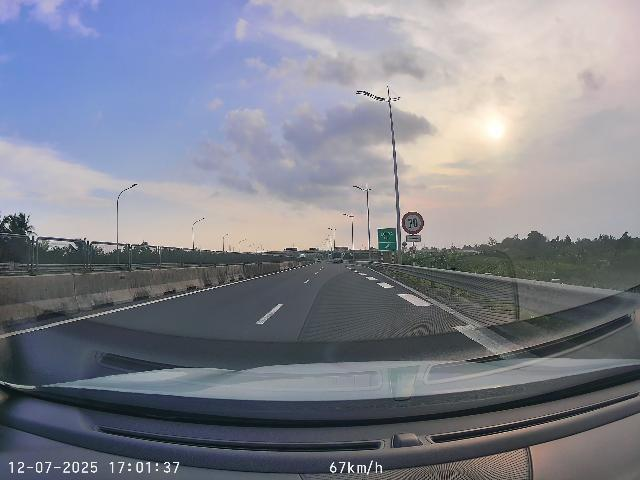127-toc-do-toi-da-70: (402, 211, 425, 235)
